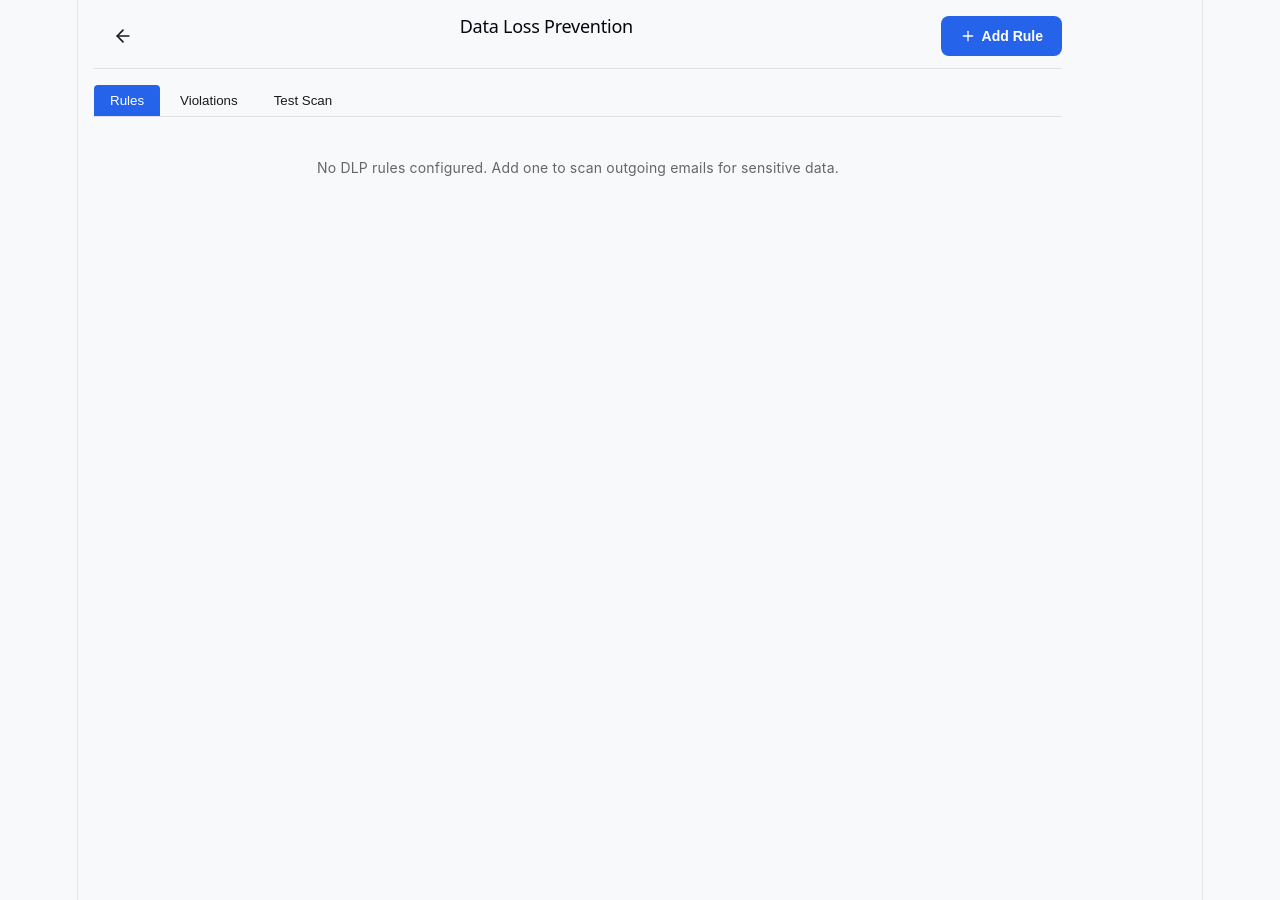
Test case: DlpManager › switches to test scan tab and shows scan form
Check: the heading "Data Loss Prevention" is shown, box [460,14,633,38]
Click the button "Test Scan". click: (303,100)
box: [258,85,348,116]
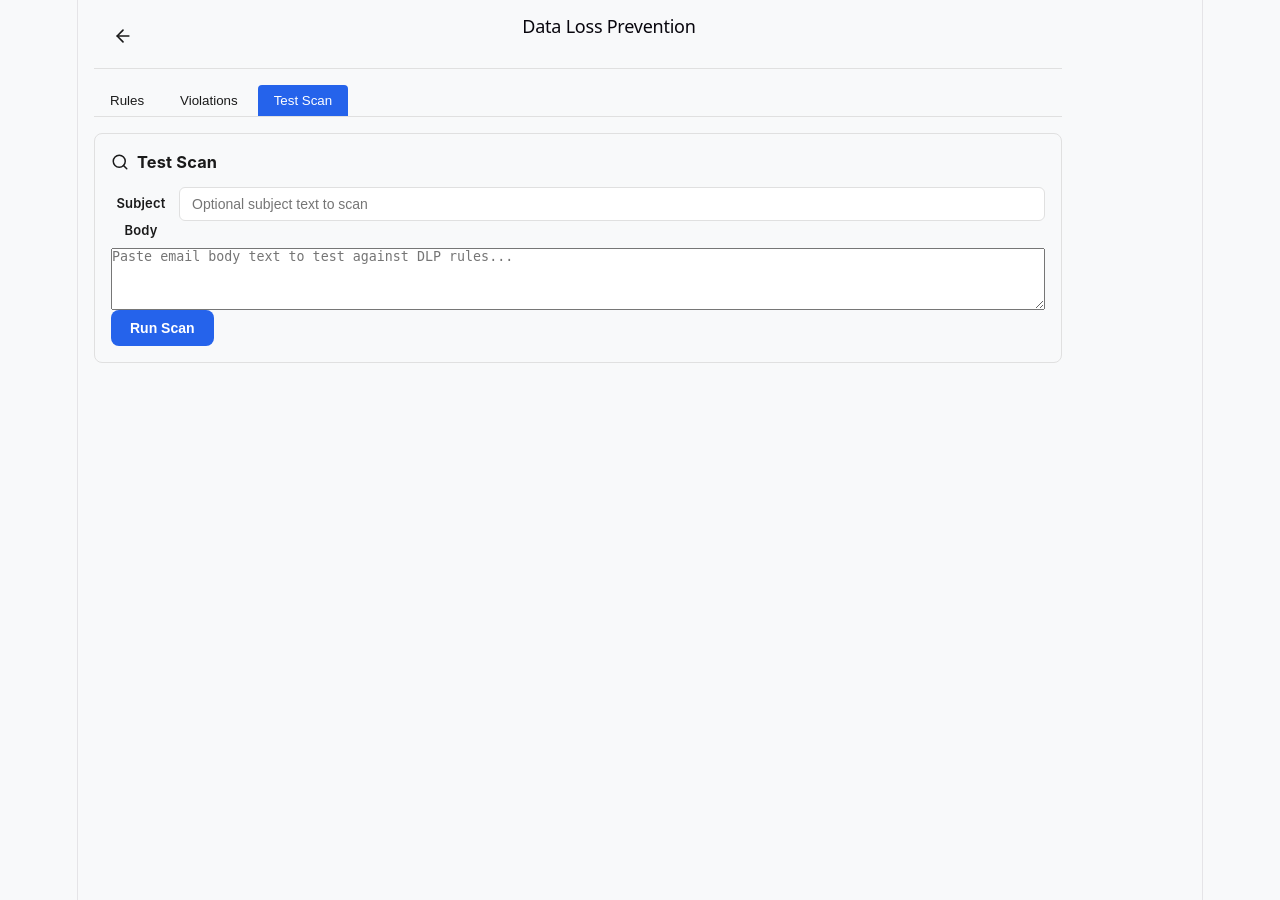
Check: the element with test id "test-scan-panel" is shown, box [94,133,1062,363]
Check: the text box with placeholder "Paste email body text to test against DLP rules..." is shown, box [111,248,1045,310]
Check: the button "Run Scan" is shown, box [111,310,214,346]
